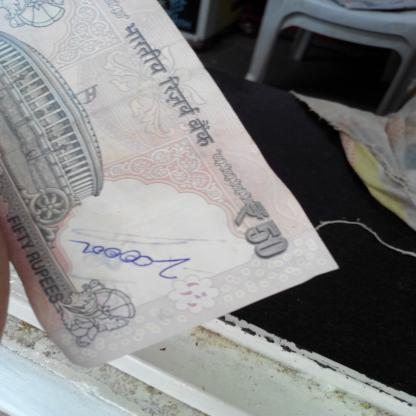Old50Back: (0, 0, 340, 369)
